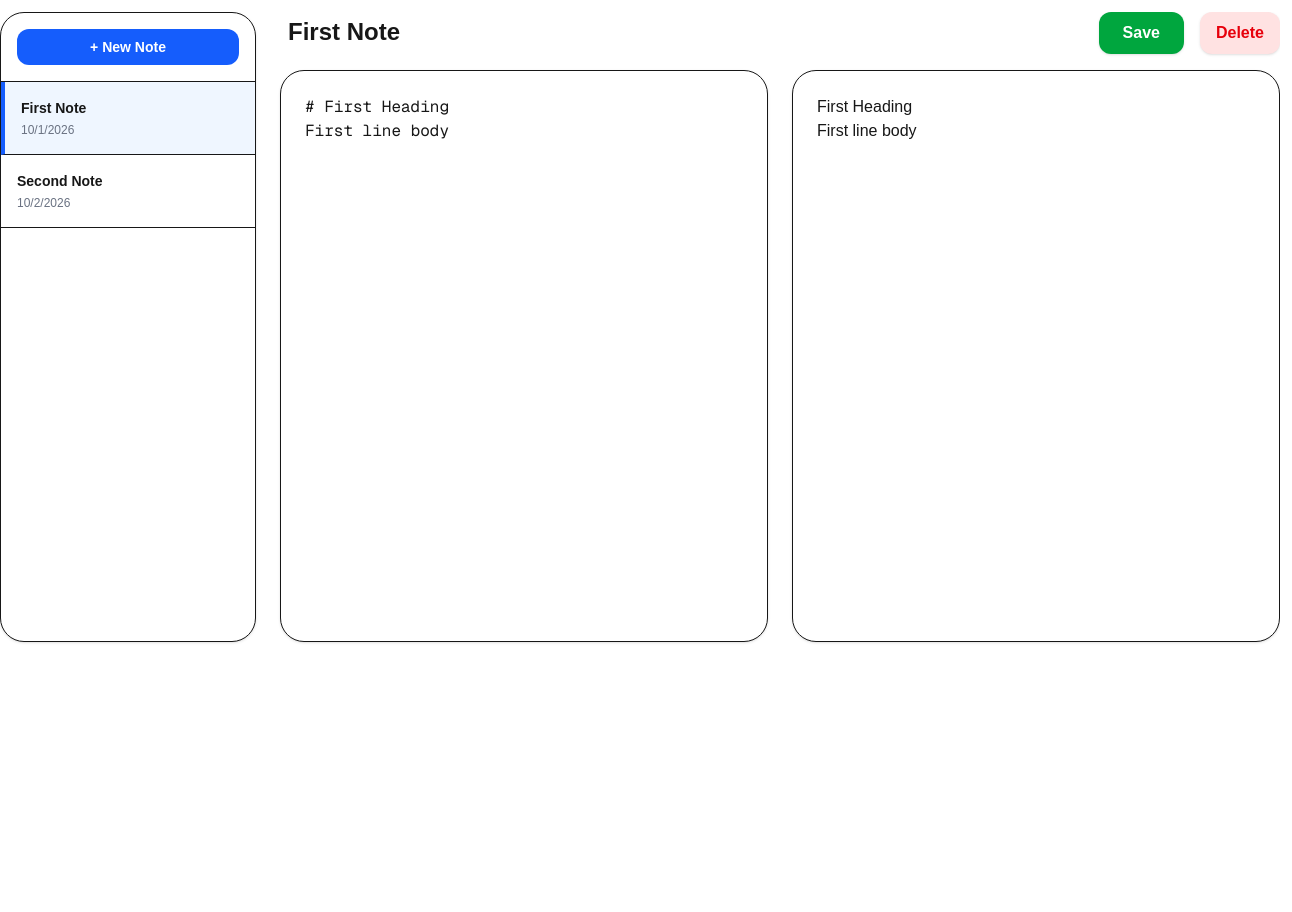
Test: NoteFlow Micro-App Components & Page › MarkdownEditor Component › should switch active note when clicked in the sidebar
Click the heading "Second Note". click: (60, 181)
box: [17,173,103,189]
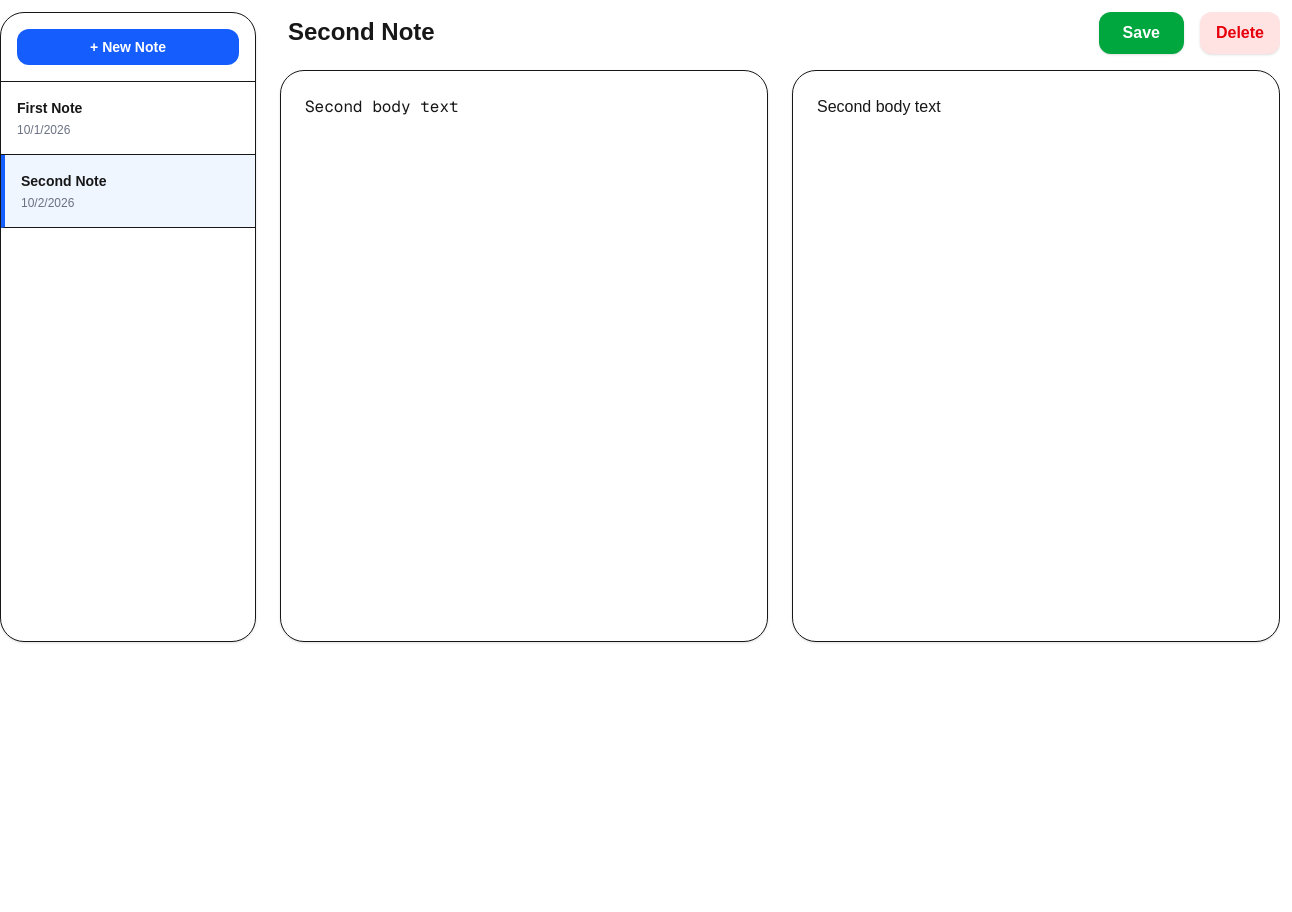
Expected: the field showing "Second Note" is shown, [280,12,1083,54]
Expected: the text box holds "Second body text", [280,70,768,642]
